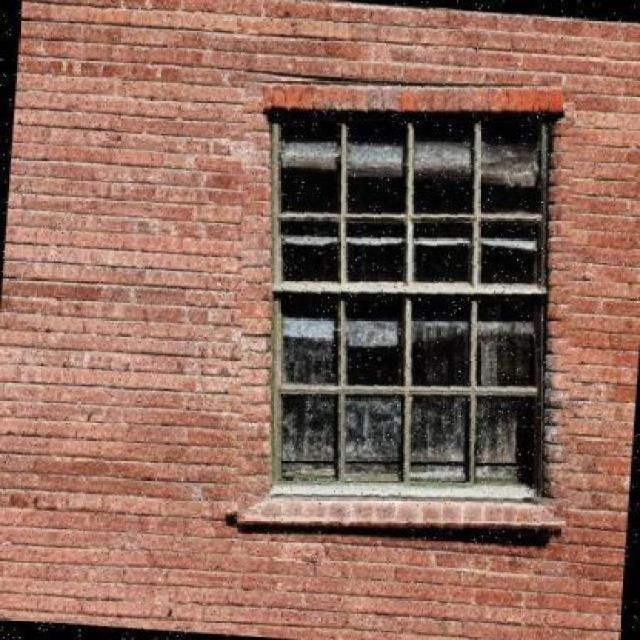window: (269, 107, 546, 495)
